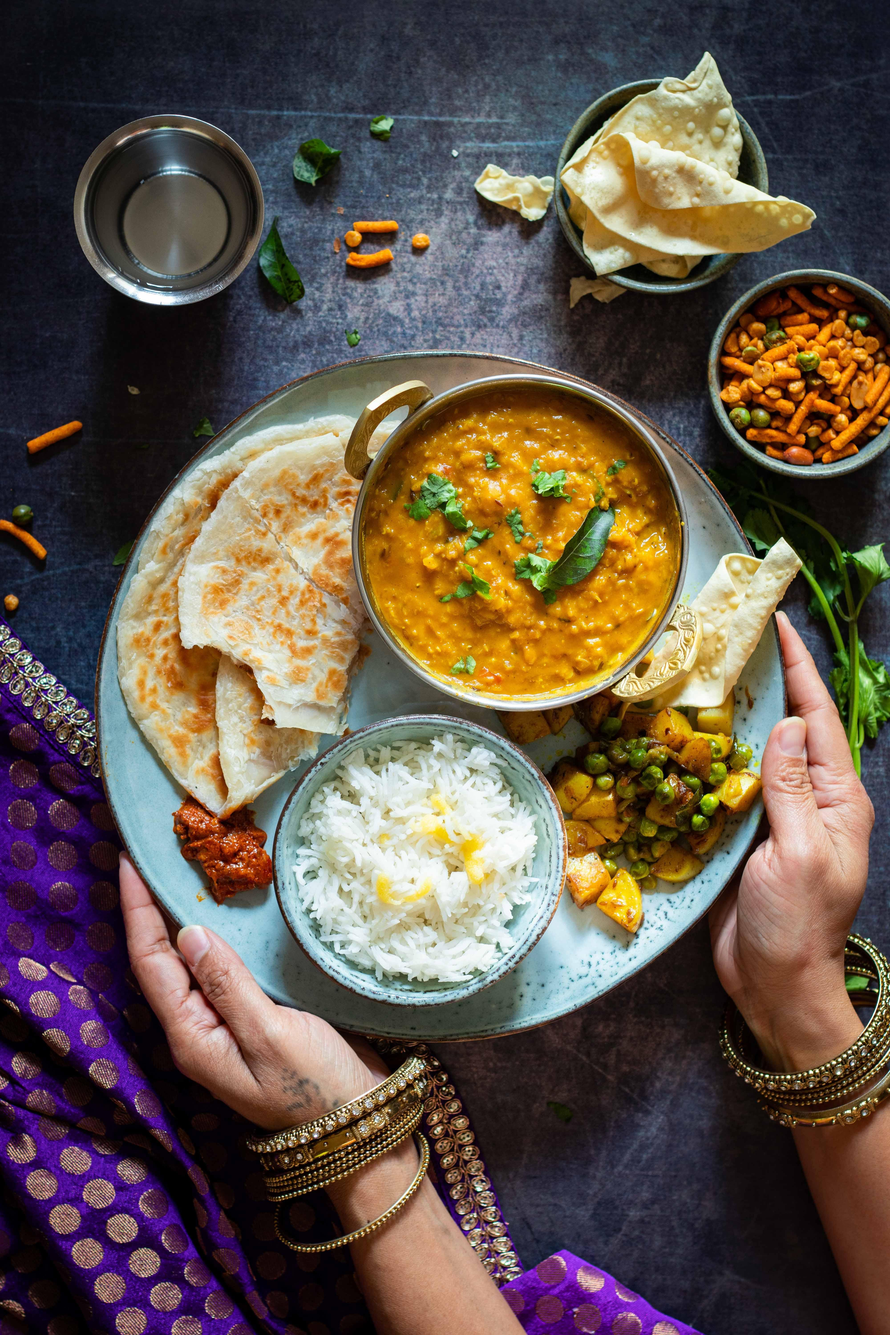dal: (358, 347, 688, 708)
rice: (291, 716, 570, 1026)
